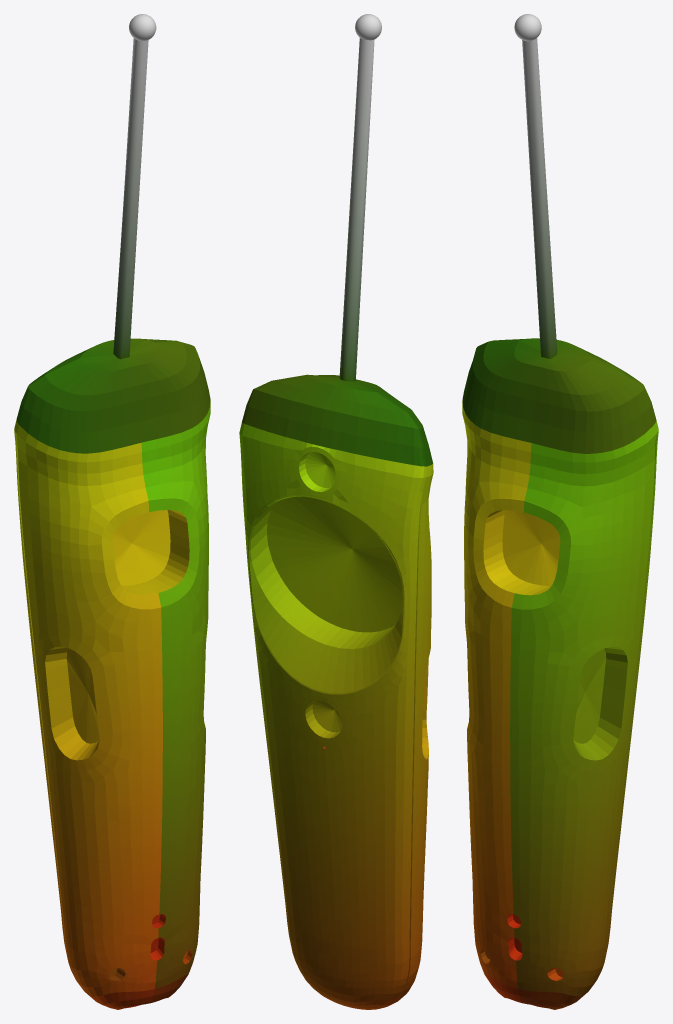
Rendered from deleter_controller_mesh_3.FBX.
3 renders of one model, left to right at view 1: azimuth 30°, elevation 25°; view 2: azimuth 150°, elevation 25°; view 3: azimuth 330°, elevation 25°, orthographic.
Parts seen in each view (by area): view 1: Delete Controller Mesh; view 2: Delete Controller Mesh; view 3: Delete Controller Mesh.
Boxes of the visible parts, box(x1,y1,x2,y2) form: Delete Controller Mesh: box(14, 14, 210, 1009); Delete Controller Mesh: box(239, 14, 433, 1009); Delete Controller Mesh: box(462, 14, 658, 1009).
Size of the model in its own units: 5.15 by 26.29 by 3.38.
